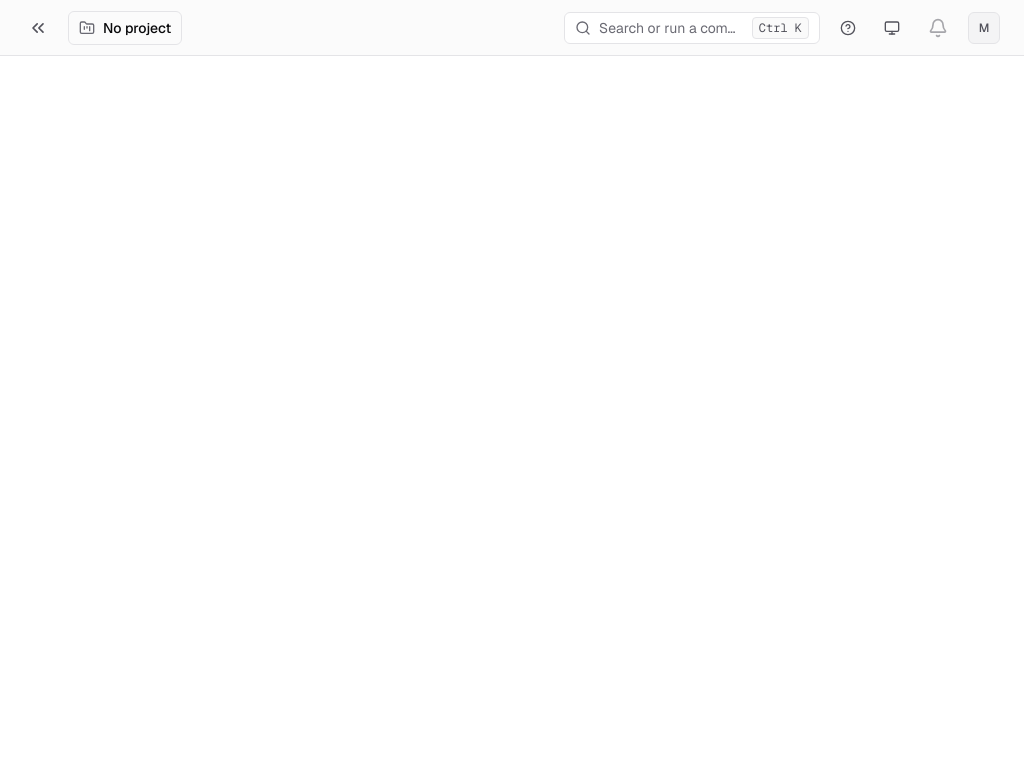
TopBar › Help menu opens the sheet
The width and height of the screenshot is (1024, 768).
Click the button named "Help". click: [848, 28]
box: [832,12,864,44]
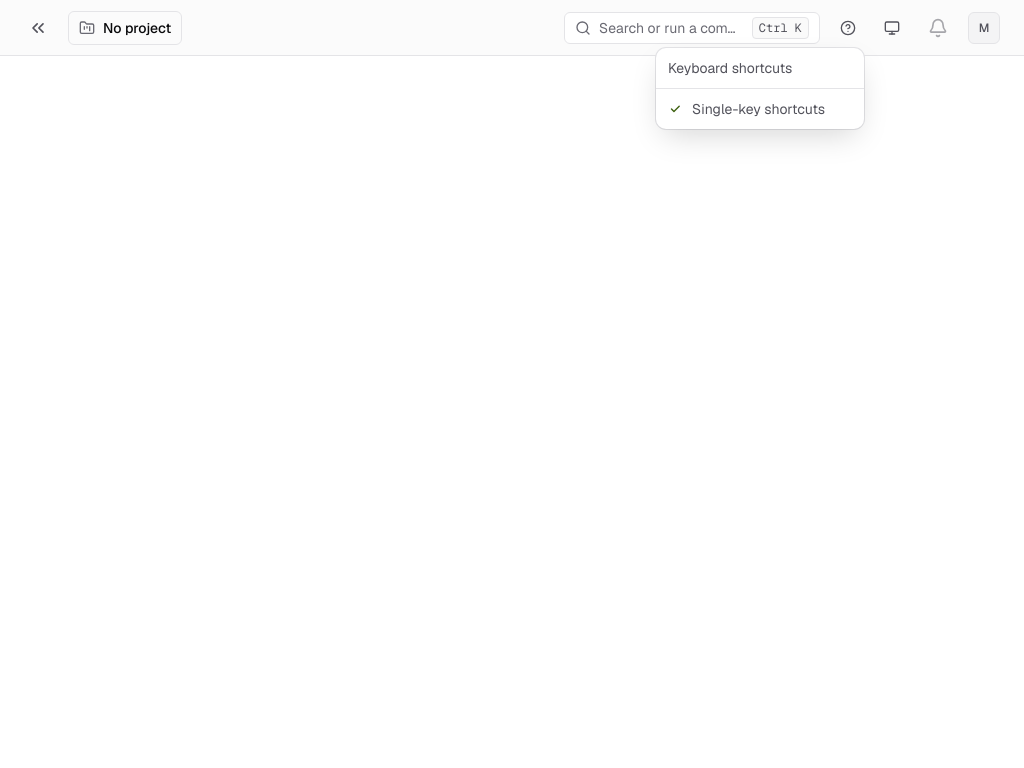
expect the menu items read "Keyboard shortcuts", in this order: met
Click the menu item "Keyboard shortcuts". click: [730, 68]
box: [668,59,792,77]
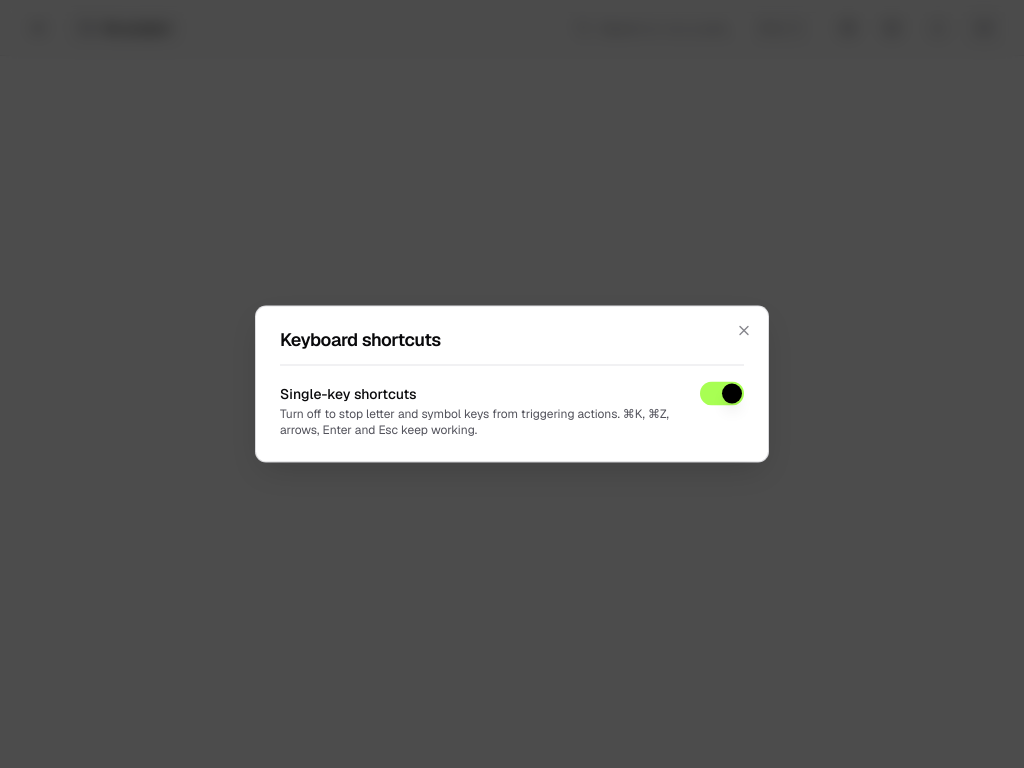
expect the dialog "Keyboard shortcuts" is shown: met, box [256,306,768,462]
expect the menu is gone: met
